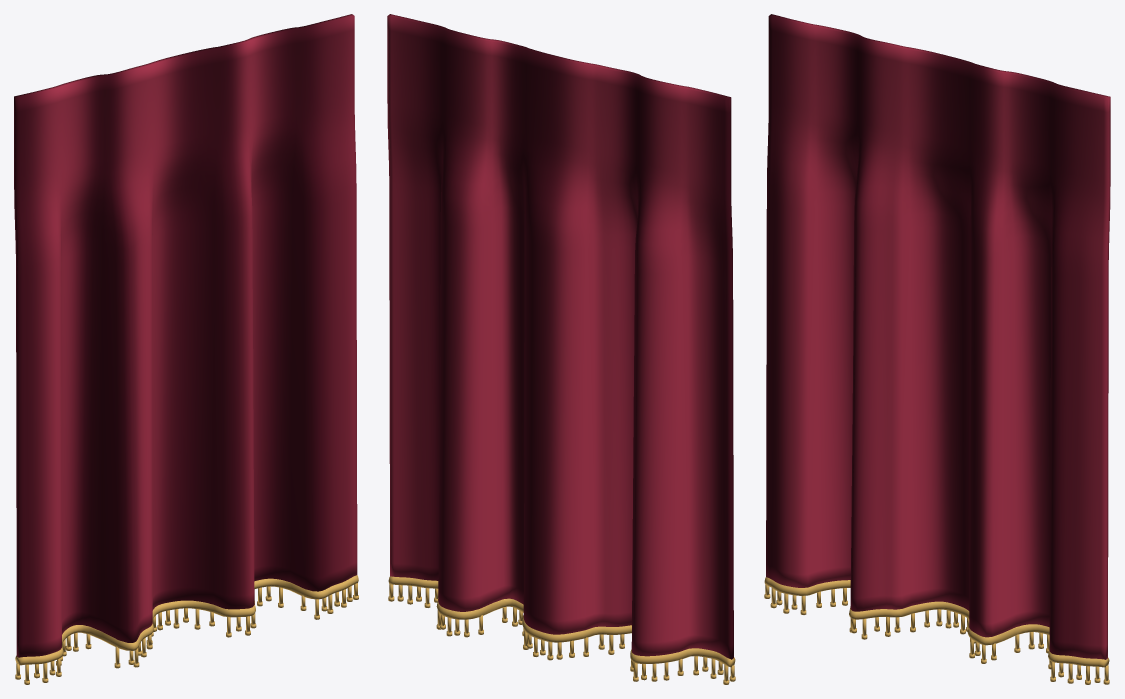
File: Th_Curtain.fbx
3 renders of one model, left to right at view 1: azimuth 30°, elevation 25°; view 2: azimuth 150°, elevation 25°; view 3: azimuth 330°, elevation 25°, orthographic.
Parts seen in each view (by area): view 1: Th_Curtain; view 2: Th_Curtain; view 3: Th_Curtain.
Part boxes in pixels (<box>): Th_Curtain: <box>14,14,358,684</box>; Th_Curtain: <box>387,14,735,684</box>; Th_Curtain: <box>764,14,1110,684</box>.
Bounding box in the file's own units: 0.4468 × 0.728 × 0.0874.
